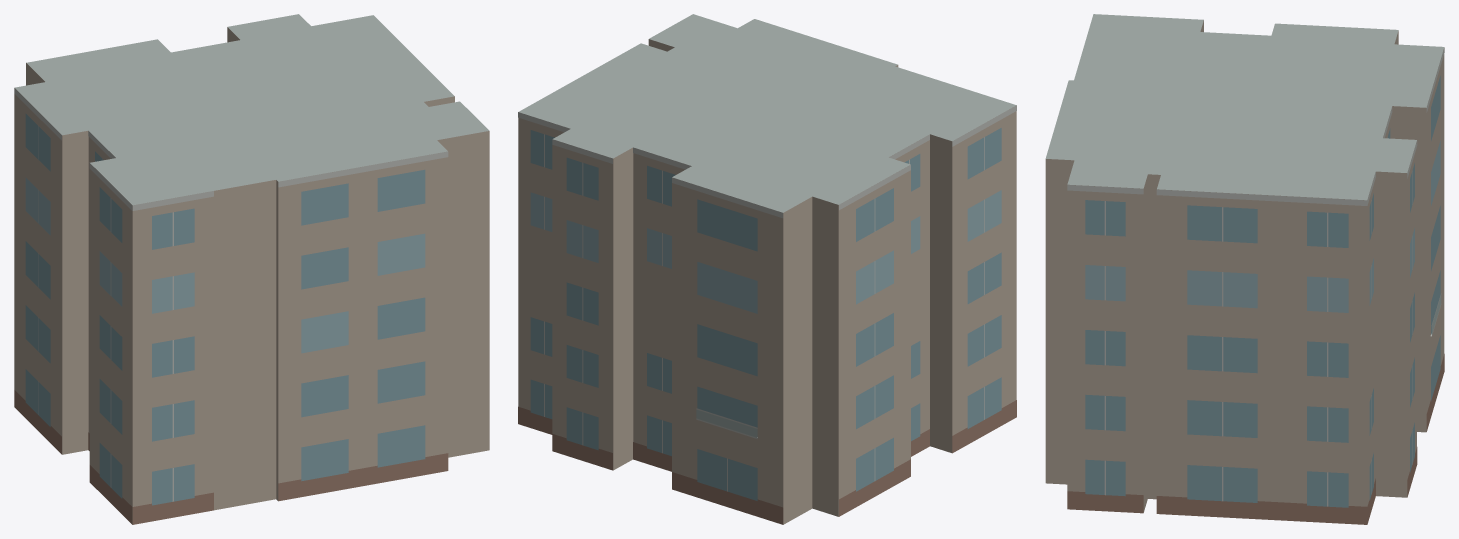
Rendered from survey-upis-32608419.glb.
The picture shows the model from 3 angles, left to right: view 1: azimuth 30°, elevation 25°; view 2: azimuth 150°, elevation 25°; view 3: azimuth 270°, elevation 25°; orthographic projection. The views are drawn at different scales.
Parts seen in each view (by area): view 1: survey-upis-32608419.tmp; view 2: survey-upis-32608419.tmp; view 3: survey-upis-32608419.tmp.
Boxes of the visible parts, <box> form: survey-upis-32608419.tmp: <box>14,14,489,524</box>; survey-upis-32608419.tmp: <box>518,14,1016,524</box>; survey-upis-32608419.tmp: <box>1045,14,1444,524</box>.
Bounding box in the file's own units: 16.69 × 13.55 × 15.1.
